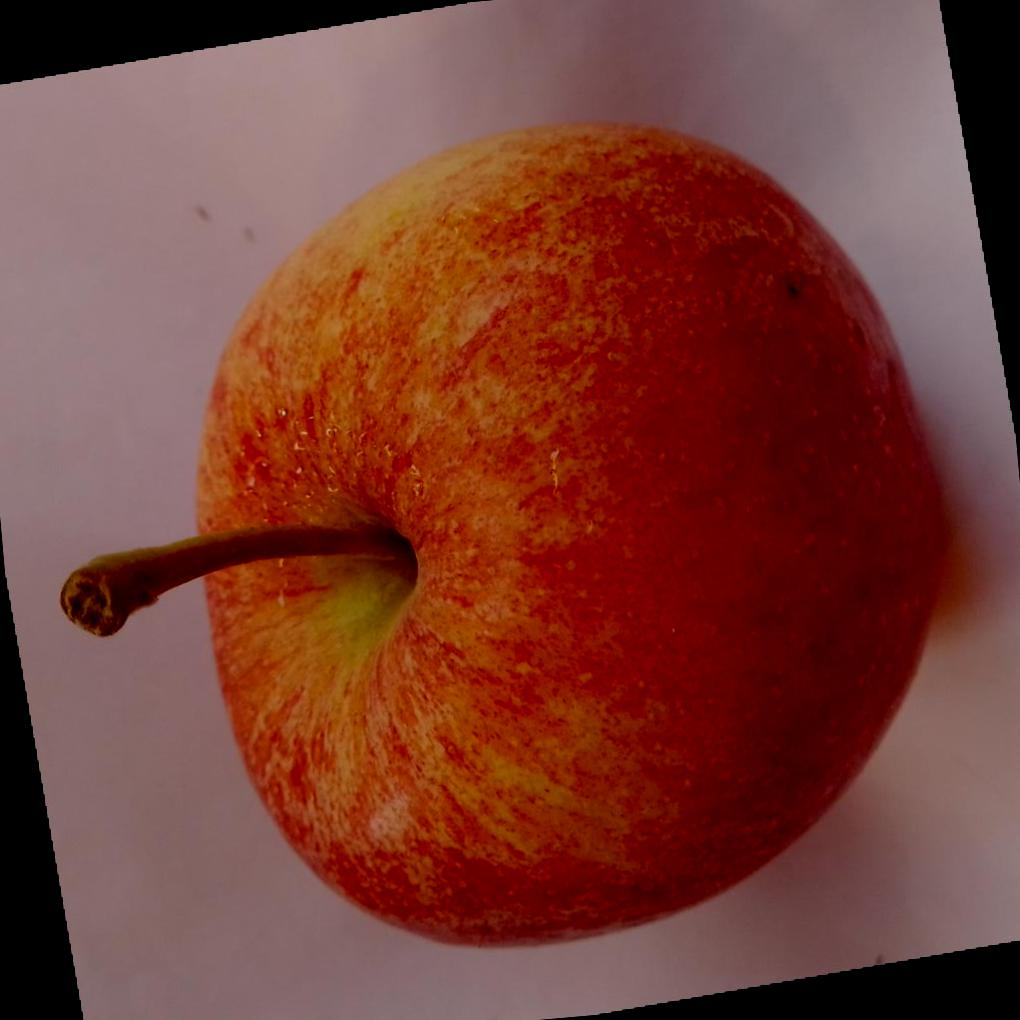FreshGuava: (54, 118, 942, 950)
